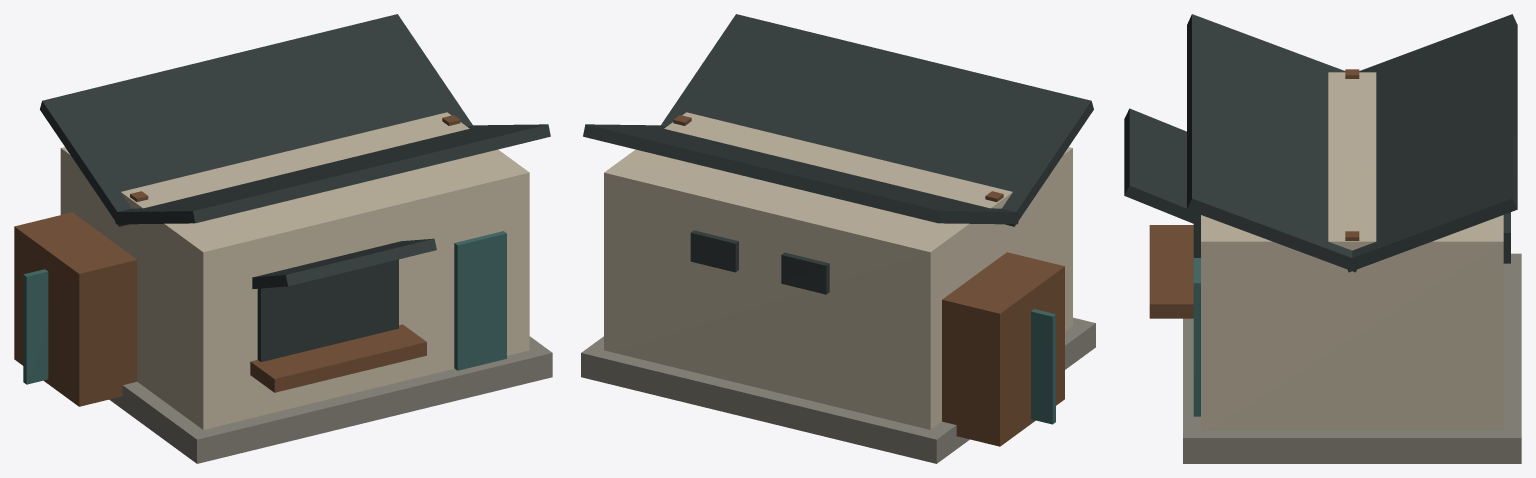
Rendered from trading-post.source.glb.
The picture shows the model from 3 angles, left to right: view 1: azimuth 30°, elevation 25°; view 2: azimuth 150°, elevation 25°; view 3: azimuth 270°, elevation 25°; orthographic projection. The views are drawn at different scales.
Parts seen in each view (by area): view 1: trading-post-cream-trade-building-mesh, trading-post-shallow-pitched-roof-rear-mesh, trading-post-locked-side-storeroom-mesh, trading-post-grounded-stone-foundation-mesh, trading-post-shallow-pitched-roof-front-mesh, trading-post-broad-service-opening-mesh, trading-post-muted-teal-personnel-door-mesh, trading-post-fixed-exchange-counter-mesh, trading-post-open-lift-up-shutter-mesh, trading-post-storeroom-teal-door-mesh; view 2: trading-post-cream-trade-building-mesh, trading-post-shallow-pitched-roof-front-mesh, trading-post-locked-side-storeroom-mesh, trading-post-grounded-stone-foundation-mesh, trading-post-shallow-pitched-roof-rear-mesh, trading-post-storeroom-teal-door-mesh, trading-post-modest-high-window-0.7-mesh, trading-post-modest-high-window--0.55-mesh; view 3: trading-post-cream-trade-building-mesh, trading-post-shallow-pitched-roof-rear-mesh, trading-post-shallow-pitched-roof-front-mesh, trading-post-grounded-stone-foundation-mesh, trading-post-open-lift-up-shutter-mesh, trading-post-fixed-exchange-counter-mesh, trading-post-muted-teal-personnel-door-mesh.
Boxes of the visible parts, box(x1,y1,x2,y2) form: trading-post-cream-trade-building-mesh: box(60, 112, 529, 429); trading-post-shallow-pitched-roof-rear-mesh: box(40, 14, 472, 226); trading-post-locked-side-storeroom-mesh: box(14, 212, 137, 406); trading-post-grounded-stone-foundation-mesh: box(109, 336, 552, 463); trading-post-shallow-pitched-roof-front-mesh: box(113, 124, 550, 224); trading-post-broad-service-opening-mesh: box(257, 259, 398, 361); trading-post-muted-teal-personnel-door-mesh: box(454, 231, 506, 370); trading-post-fixed-exchange-counter-mesh: box(250, 324, 426, 392); trading-post-open-lift-up-shutter-mesh: box(252, 238, 436, 288); trading-post-storeroom-teal-door-mesh: box(23, 269, 48, 384); trading-post-cream-trade-building-mesh: box(604, 112, 1072, 429); trading-post-shallow-pitched-roof-front-mesh: box(661, 14, 1093, 226); trading-post-locked-side-storeroom-mesh: box(942, 252, 1064, 446); trading-post-grounded-stone-foundation-mesh: box(581, 317, 1095, 463); trading-post-shallow-pitched-roof-rear-mesh: box(583, 124, 1019, 224); trading-post-storeroom-teal-door-mesh: box(1031, 309, 1055, 424); trading-post-modest-high-window-0.7-mesh: box(690, 230, 738, 272); trading-post-modest-high-window--0.55-mesh: box(781, 252, 829, 294); trading-post-cream-trade-building-mesh: box(1201, 72, 1503, 430); trading-post-shallow-pitched-roof-rear-mesh: box(1344, 14, 1517, 272); trading-post-shallow-pitched-roof-front-mesh: box(1187, 14, 1360, 272); trading-post-grounded-stone-foundation-mesh: box(1183, 253, 1521, 463); trading-post-open-lift-up-shutter-mesh: box(1124, 108, 1200, 226); trading-post-fixed-exchange-counter-mesh: box(1149, 225, 1193, 318); trading-post-muted-teal-personnel-door-mesh: box(1193, 258, 1200, 416).
Bounding box in the file's own units: 5.8 × 3.29 × 4.46.
